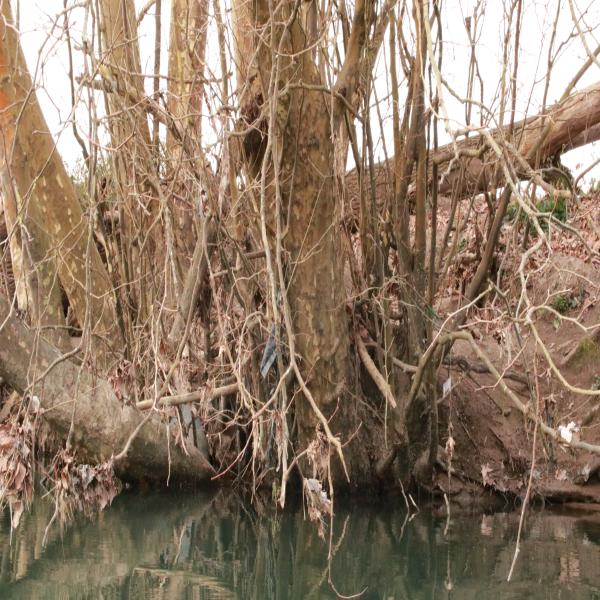fragments: (259, 321, 276, 380), (307, 478, 329, 515), (442, 378, 451, 398)
